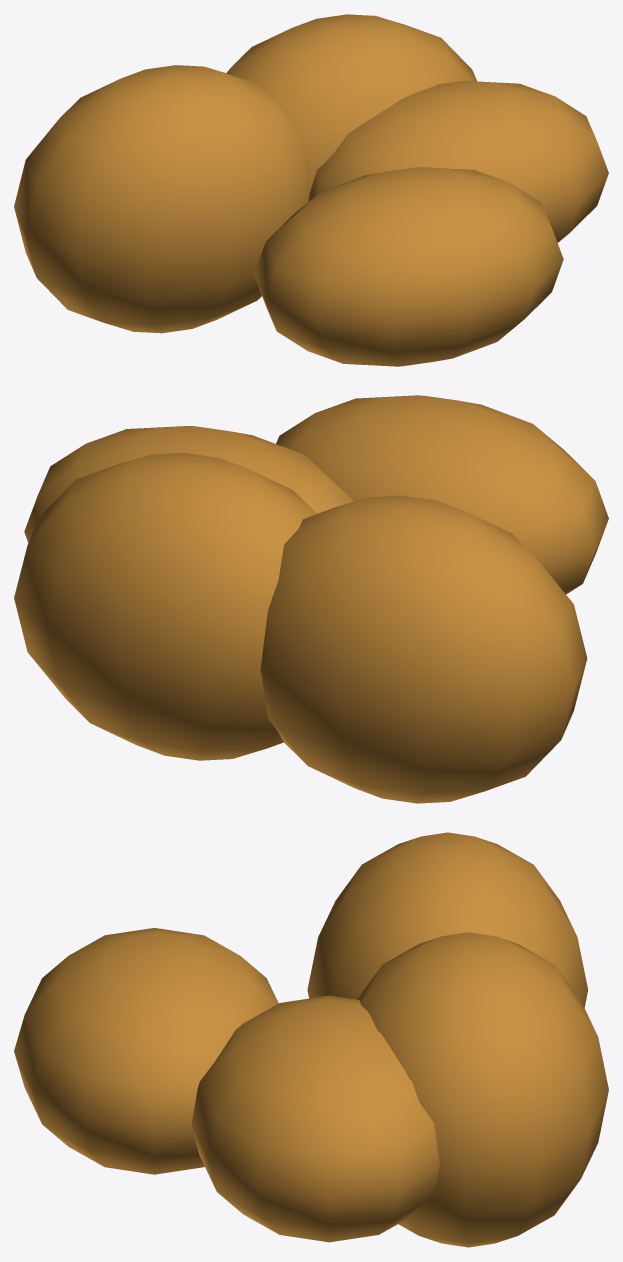
File: payload_cured_resin_a.obj
The picture shows the model from 3 angles, top to bottom: view 1: azimuth 30°, elevation 25°; view 2: azimuth 150°, elevation 25°; view 3: azimuth 270°, elevation 25°; orthographic projection. The views are drawn at different scales.
Parts seen in each view (by area): view 1: payload_piece.041, payload_piece.042, payload_piece.040, payload_piece.043; view 2: payload_piece.041, payload_piece.043, payload_piece.042, payload_piece.040; view 3: payload_piece.043, payload_piece.040, payload_piece.042, payload_piece.041.
Part boxes in pixels (x1,y1,x2,y2): payload_piece.041: (14, 65, 309, 333); payload_piece.042: (254, 167, 563, 366); payload_piece.040: (308, 81, 608, 242); payload_piece.043: (226, 14, 477, 193); payload_piece.041: (260, 495, 587, 803); payload_piece.043: (14, 452, 316, 760); payload_piece.042: (276, 395, 608, 594); payload_piece.040: (24, 426, 353, 542); payload_piece.043: (357, 932, 608, 1247); payload_piece.040: (191, 995, 439, 1242); payload_piece.042: (14, 928, 278, 1174); payload_piece.041: (307, 832, 588, 1007).
Size of the model in its own units: 0.5806 by 0.26 by 0.5085.
